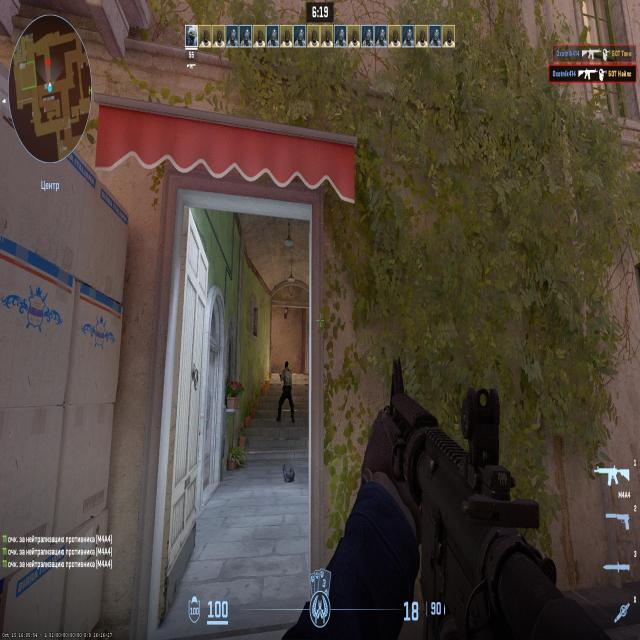T: (282, 364, 291, 400)
T_heat: (284, 362, 289, 370)
